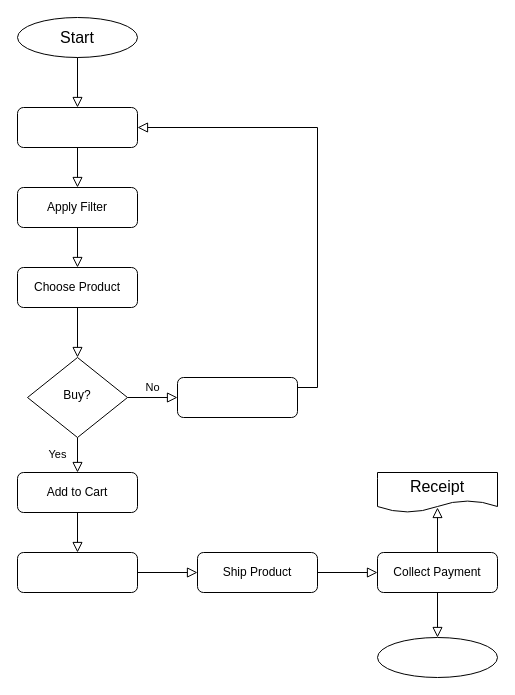
This 515x695 diagram has some shape labels left out. The shapes that lost their labels are listed below. From the top down, each one's box as (x1, y1, x2, y2) in pixels, then its label:
(16, 106, 138, 148): Search Product
(176, 376, 298, 418): Add to Wishlist
(16, 552, 138, 592): Place Order
(376, 636, 498, 678): End
